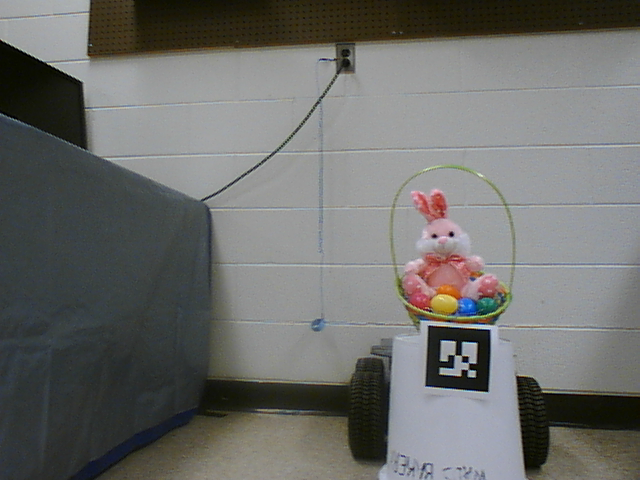bunny: (380, 153, 520, 332)
